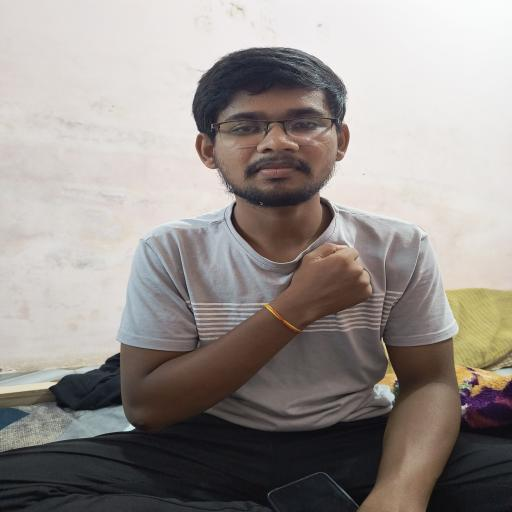Understood: (89, 211, 422, 437)
